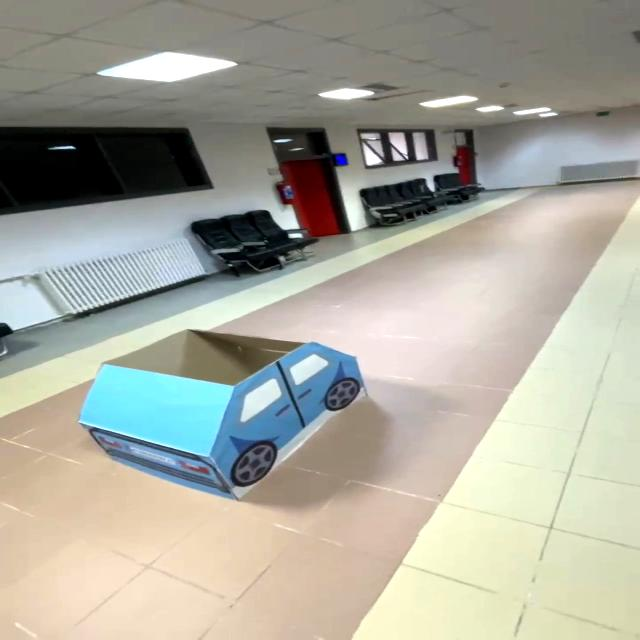blue_car: (57, 317, 412, 500)
